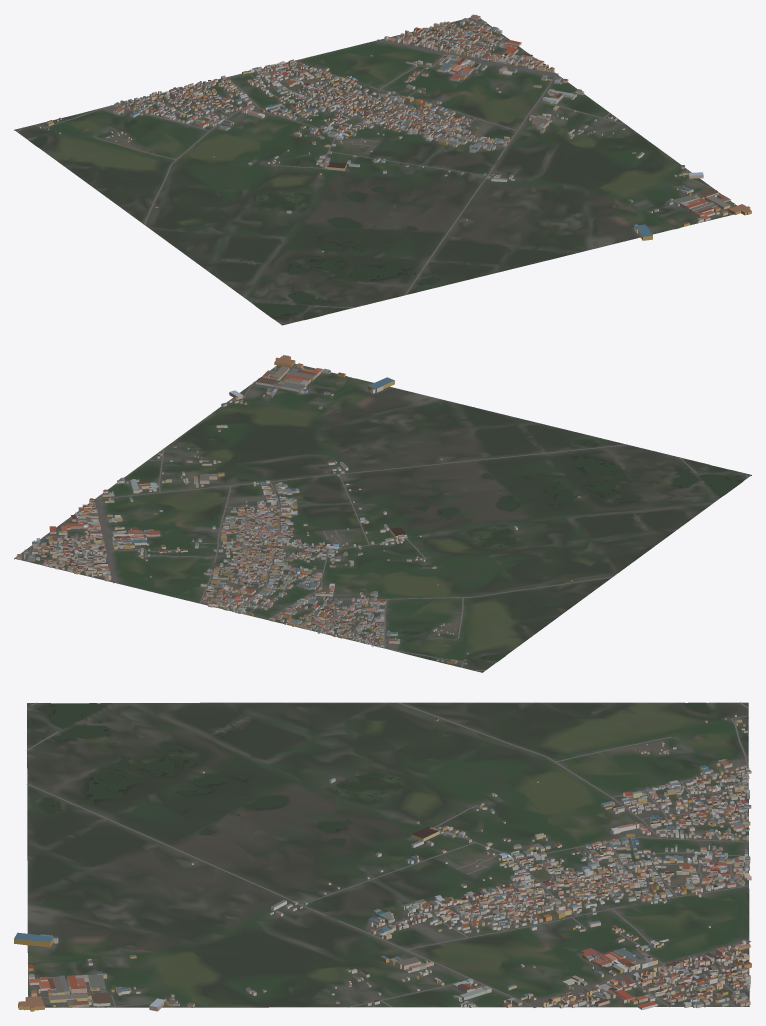
The picture shows the model from 3 angles, top to bottom: view 1: azimuth 30°, elevation 25°; view 2: azimuth 150°, elevation 25°; view 3: azimuth 270°, elevation 25°; orthographic projection. The views are drawn at different scales.
Visible parts, largest first — view 1: ground, buildings, water, roads; view 2: ground, buildings, water, roads; view 3: ground, buildings, water, roads.
Part boxes in pixels (x1,y1,x2,y2): ground: (14,18,736,325); buildings: (39,14,751,252); water: (30,119,677,318); roads: (17,20,732,323); ground: (14,363,751,672); buildings: (16,355,580,664); water: (303,377,740,661); roads: (22,364,748,670); ground: (27,702,749,1007); buildings: (14,714,751,1011); water: (27,702,709,963); roads: (26,702,750,1007).
Size of the model in its own units: 1423 by 17.17 by 1434.
